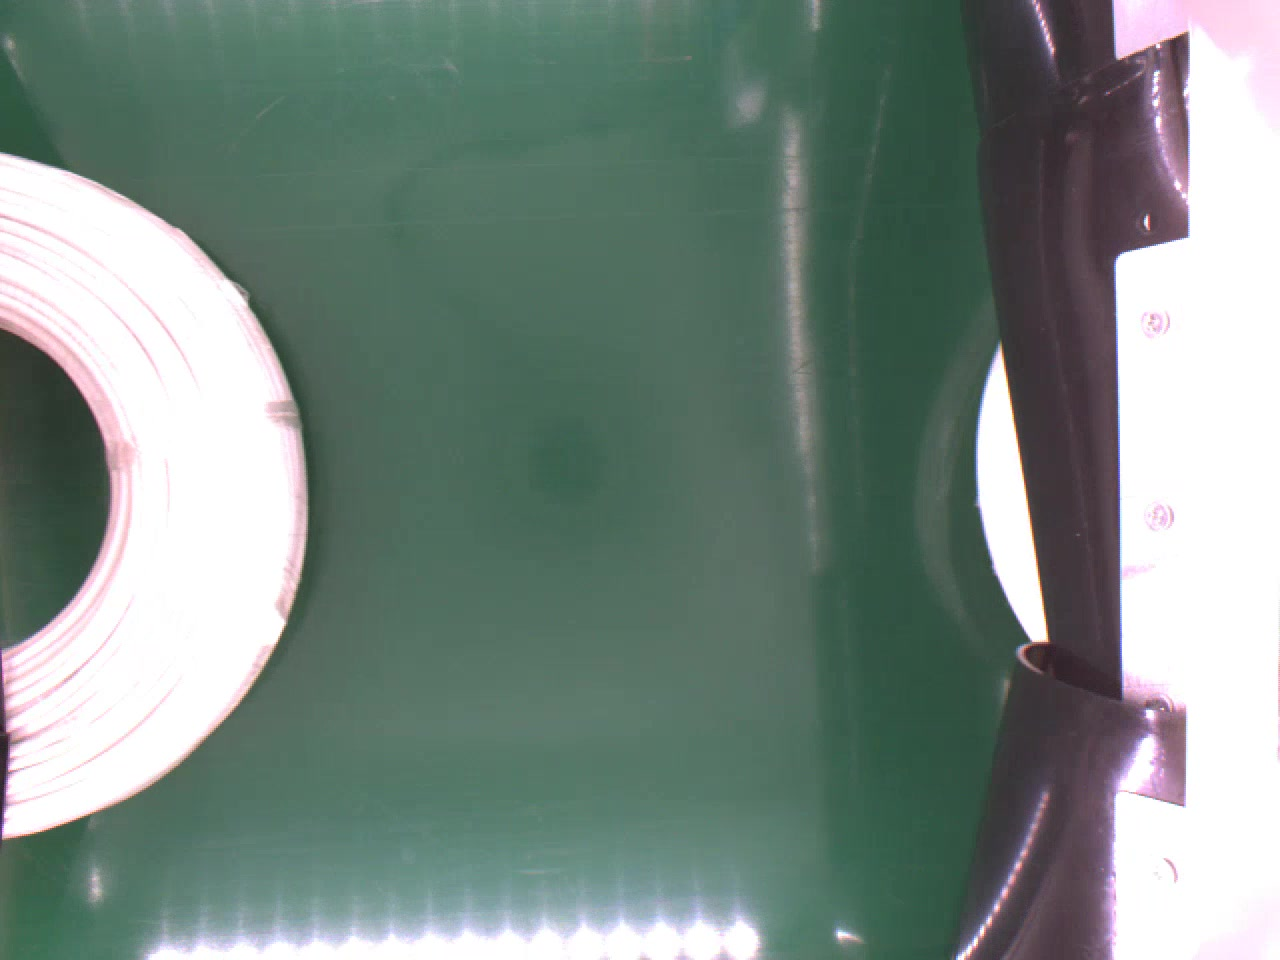white: (0, 140, 311, 845)
